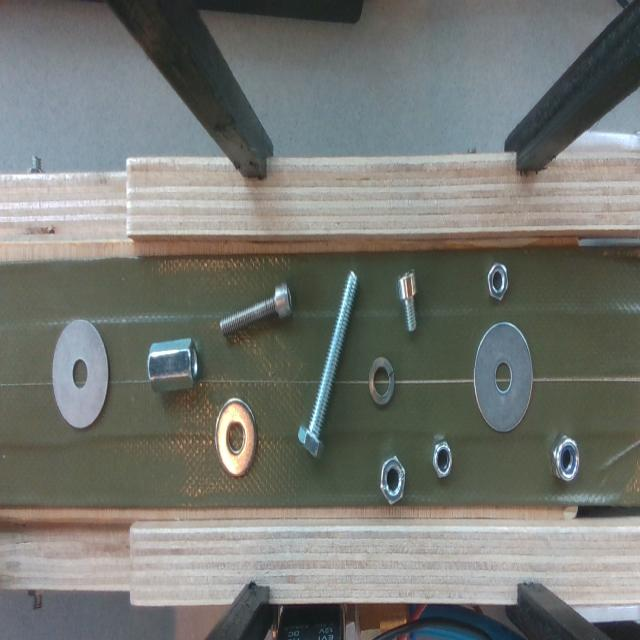Bolt: (299, 271, 358, 458), (220, 283, 291, 335), (396, 269, 416, 300)
Nut: (148, 338, 198, 393), (551, 435, 580, 482), (380, 457, 405, 504), (432, 440, 452, 478), (488, 264, 508, 300)
washer: (474, 321, 532, 432), (52, 319, 109, 428), (215, 397, 258, 477), (369, 357, 395, 406)
